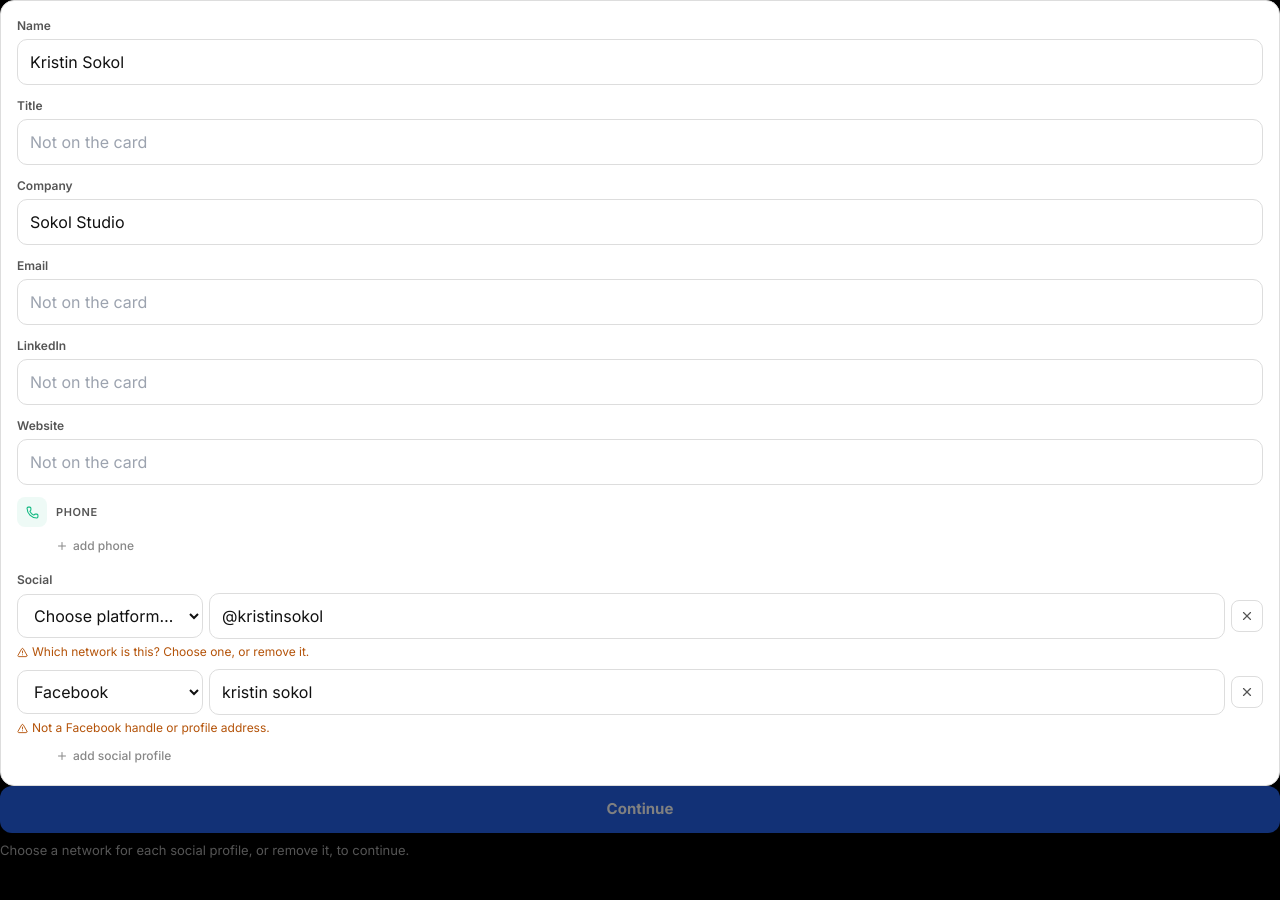
it: review: the Social section › a handle can be removed; one that is not a handle for its network is flagged
Check: the text "Not a Facebook handle or profile address." is shown, box x1=17 y1=720 x2=270 y2=735
Click the button named "Remove @kristinsokol" at (1247, 616), box x1=1231 y1=600 x2=1263 y2=632
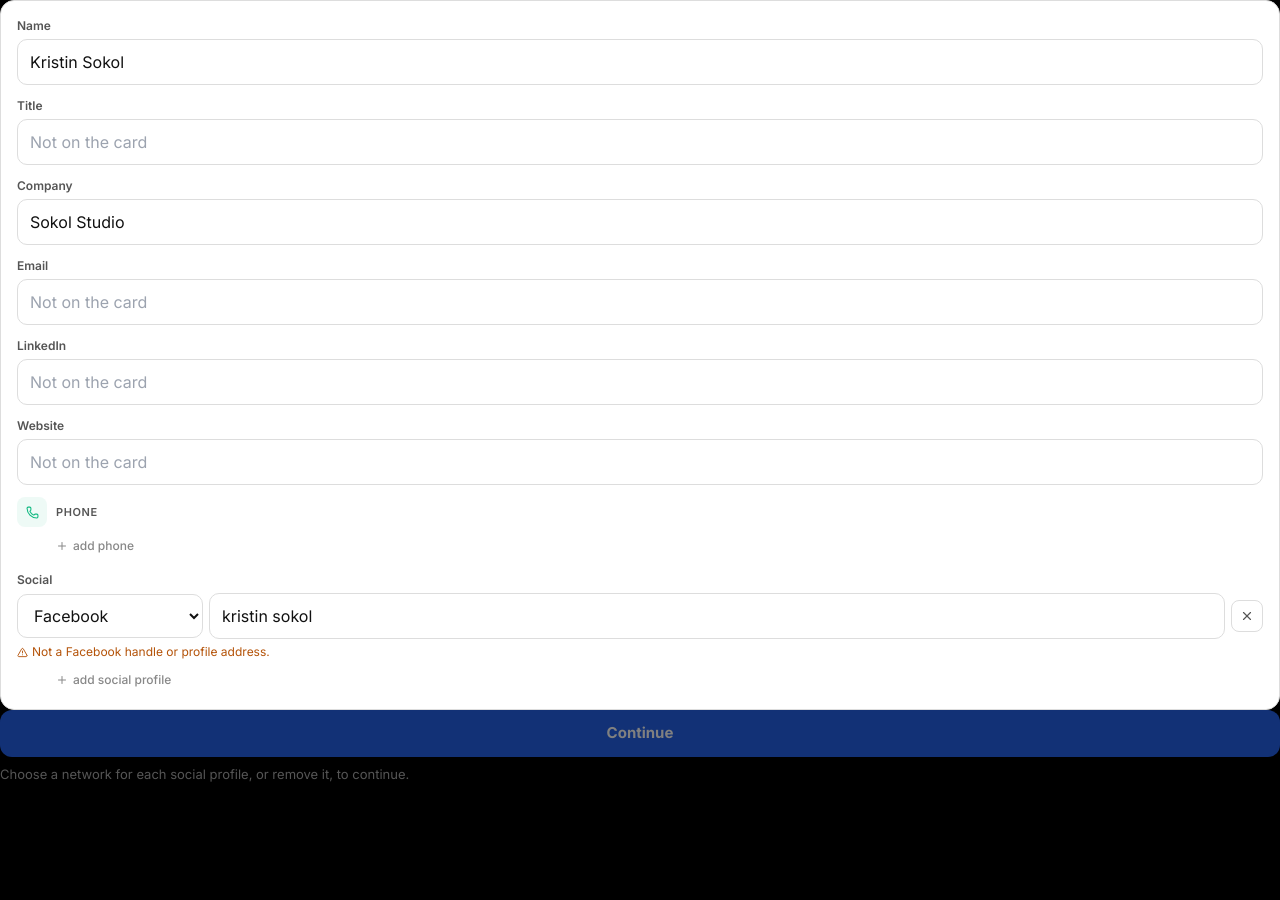
Click the button named "Remove kristin sokol" at (1247, 616), box x1=1231 y1=600 x2=1263 y2=632
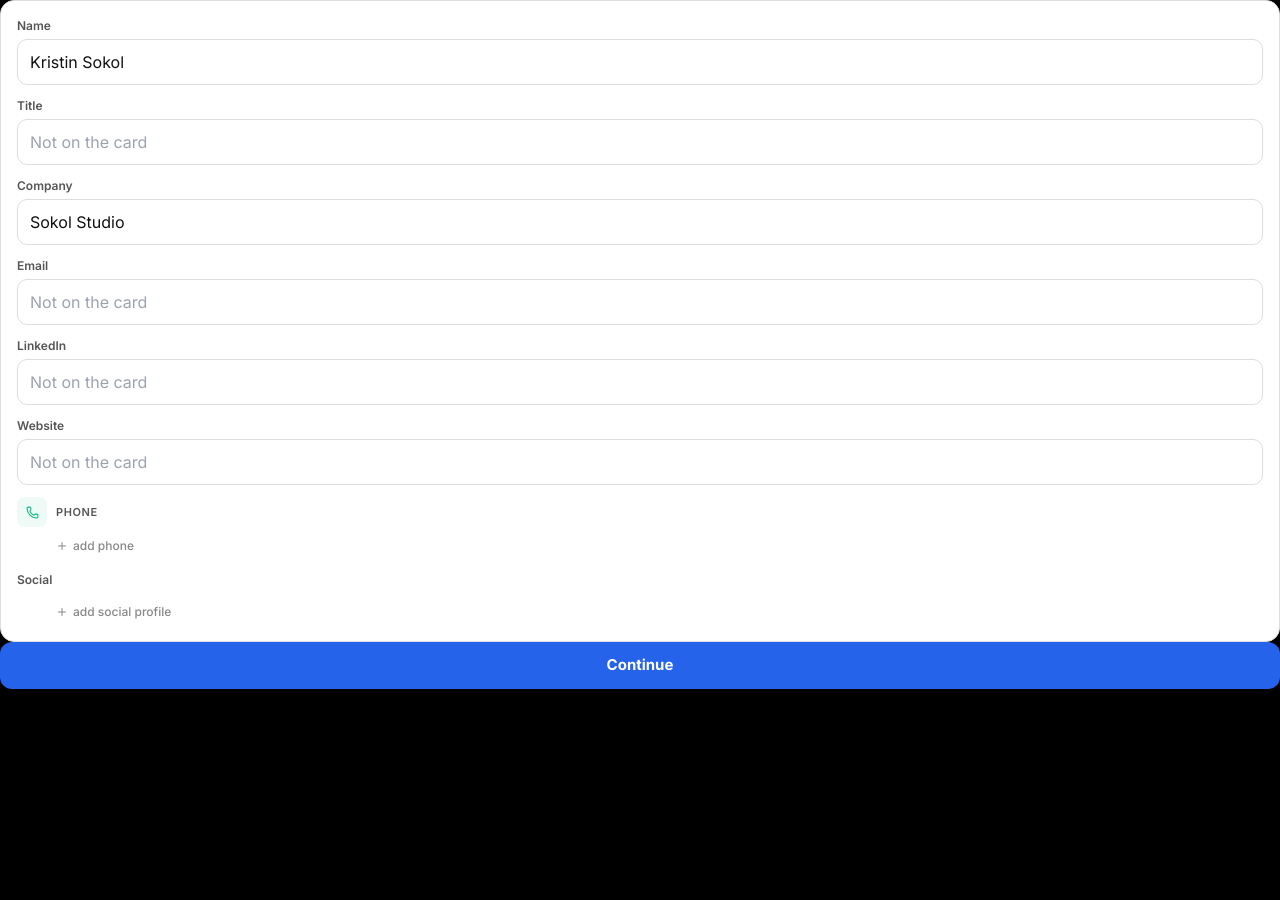
Check: no elements with test id "capture-social-row" are shown
Check: the button "Continue" is enabled, box x1=0 y1=642 x2=1279 y2=688
